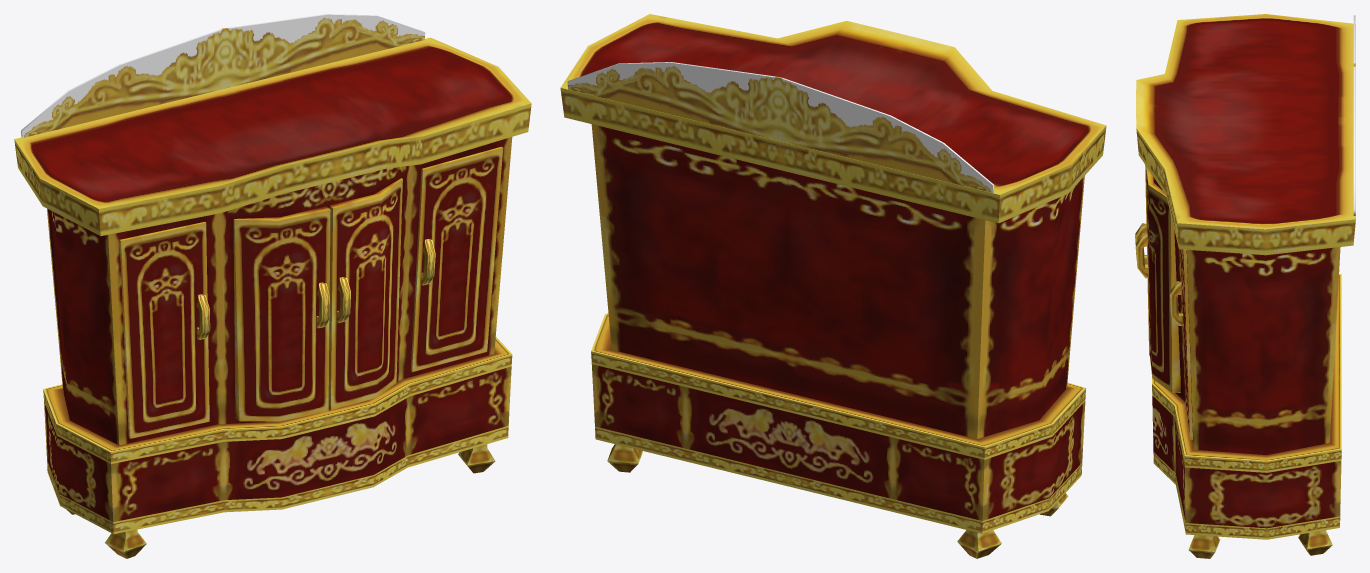
The model's file is EmperorCabinet_HD.fbx.
3 views of the same model, side by side, from view 1: azimuth 30°, elevation 25°; view 2: azimuth 150°, elevation 25°; view 3: azimuth 270°, elevation 25° (orthographic). The views are drawn at different scales.
Parts seen in each view (by area): view 1: EmperorCabinet; view 2: EmperorCabinet; view 3: EmperorCabinet.
Part boxes in pixels (x1,y1,x2,y2): EmperorCabinet: [14, 14, 531, 558]; EmperorCabinet: [560, 14, 1106, 558]; EmperorCabinet: [1135, 14, 1355, 558].
Size of the model in its own units: 1.93 by 1.71 by 0.8367.
